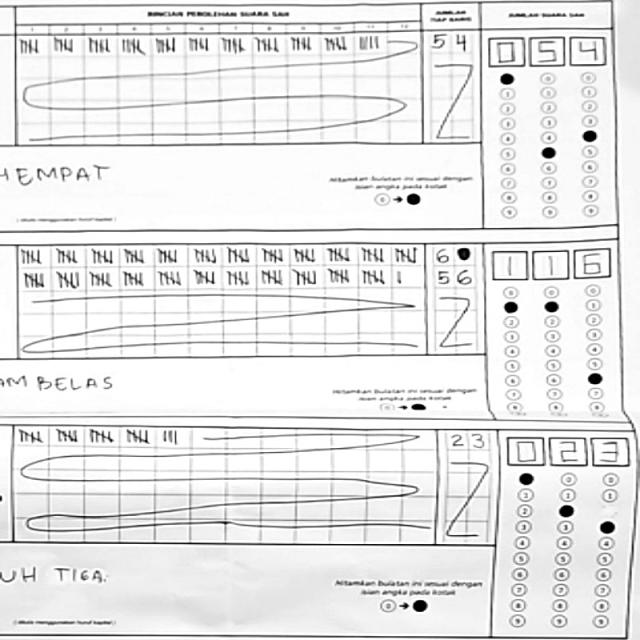Suara: (502, 430, 632, 470), (480, 30, 610, 70), (483, 244, 612, 282)
